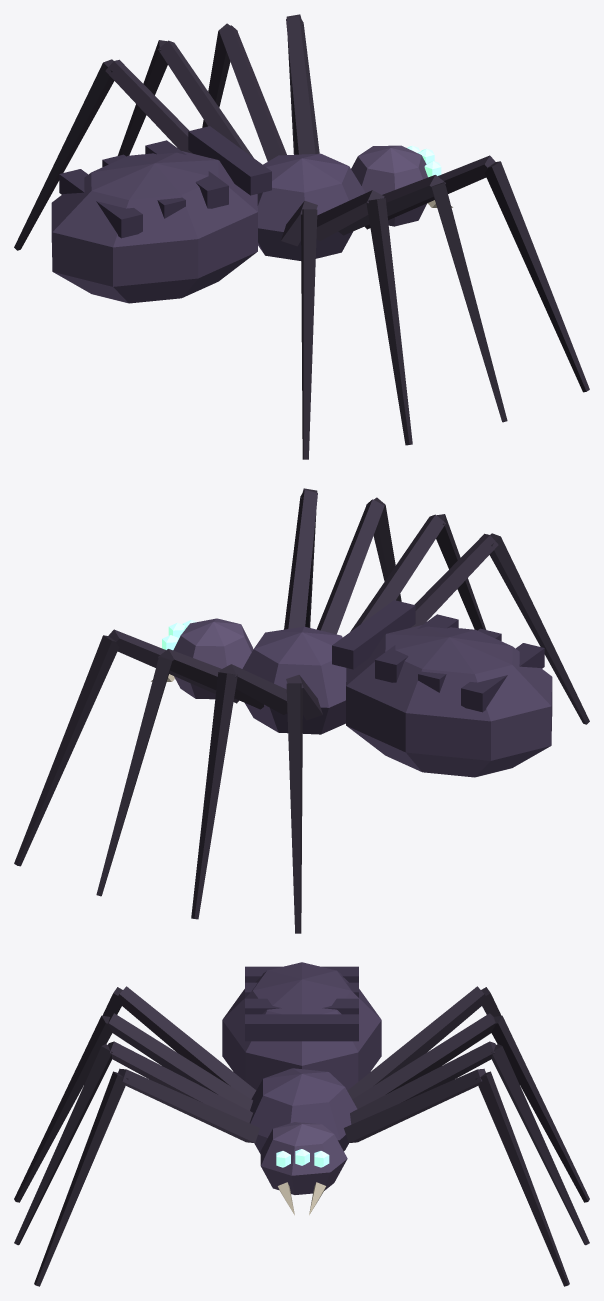
The model's file is crawler.glb.
The picture shows the model from 3 angles, top to bottom: view 1: azimuth 30°, elevation 25°; view 2: azimuth 150°, elevation 25°; view 3: azimuth 270°, elevation 25°; orthographic projection. The views are drawn at different scales.
Parts seen in each view (by area): view 1: body, sleg_r3, sleg_l4, sleg_r1, sleg_r2, head, sleg_l2, sleg_r4, sleg_l3, sleg_l1; view 2: body, sleg_l3, sleg_r4, sleg_l1, sleg_l2, head, sleg_r2, sleg_l4, sleg_r3, sleg_r1; view 3: body, sleg_l1, sleg_r1, sleg_r3, sleg_l3, head, sleg_l2, sleg_r2, sleg_l4, sleg_r4.
Part boxes in pixels (left/top/right/bottom): body: left=51, top=126, right=364, bottom=303; sleg_r3: left=316, top=190, right=412, bottom=445; sleg_l4: left=14, top=59, right=192, bottom=250; sleg_r1: left=364, top=155, right=589, bottom=392; sleg_r2: left=338, top=175, right=507, bottom=422; head: left=351, top=145, right=452, bottom=226; sleg_l2: left=202, top=23, right=286, bottom=161; sleg_r4: left=281, top=201, right=317, bottom=459; sleg_l3: left=117, top=40, right=253, bottom=157; sleg_l1: left=286, top=14, right=319, bottom=154; body: left=242, top=600, right=552, bottom=777; sleg_l3: left=191, top=664, right=287, bottom=919; sleg_r4: left=411, top=533, right=589, bottom=724; sleg_l1: left=14, top=629, right=239, bottom=866; sleg_l2: left=96, top=649, right=263, bottom=896; head: left=151, top=618, right=253, bottom=699; sleg_r2: left=316, top=497, right=401, bottom=634; sleg_l4: left=286, top=675, right=322, bottom=933; sleg_r3: left=350, top=514, right=486, bottom=631; sleg_r1: left=284, top=488, right=317, bottom=629; body: left=222, top=962, right=381, bottom=1153; sleg_l1: left=344, top=1068, right=569, bottom=1286; sleg_r1: left=34, top=1068, right=259, bottom=1286; sleg_r3: left=14, top=1013, right=252, bottom=1202; sleg_l3: left=352, top=1013, right=589, bottom=1202; head: left=260, top=1122, right=347, bottom=1215; sleg_l2: left=350, top=1041, right=589, bottom=1245; sleg_r2: left=14, top=1041, right=252, bottom=1245; sleg_l4: left=347, top=986, right=501, bottom=1099; sleg_r4: left=102, top=986, right=256, bottom=1098.
Bounding box in the file's own units: 1.11 × 0.5687 × 1.51.
